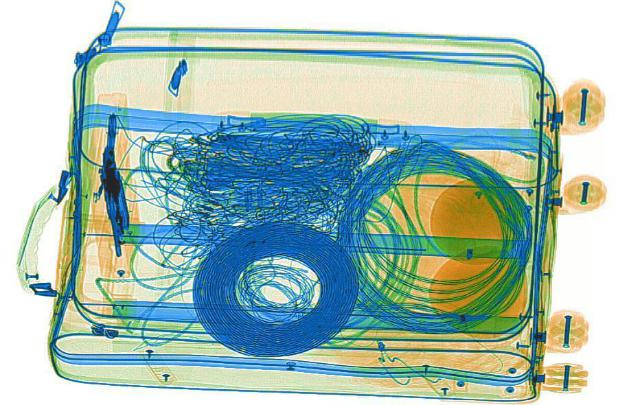Gun: (97, 111, 135, 256)
